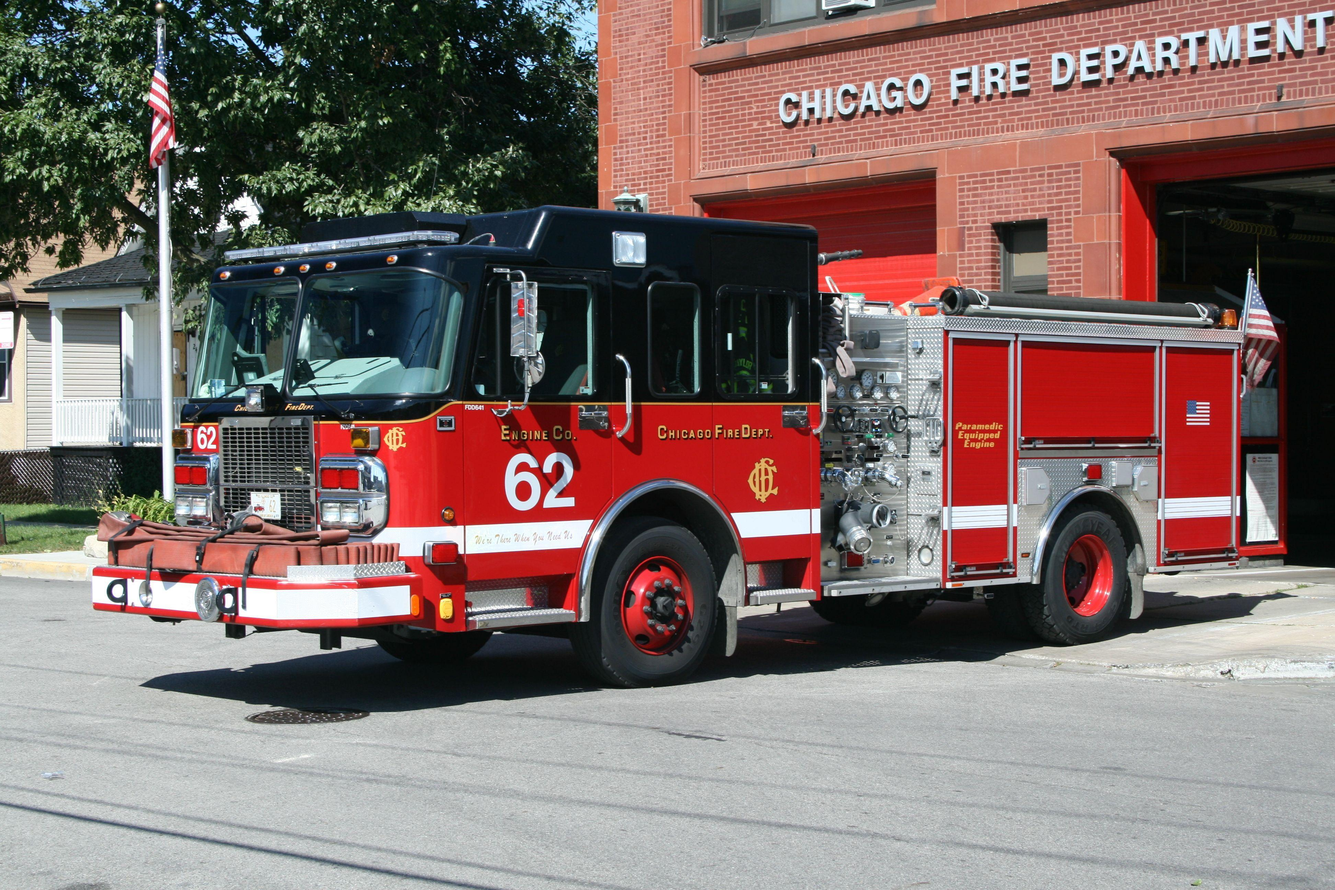Fire-engine: (83, 207, 1291, 689)
